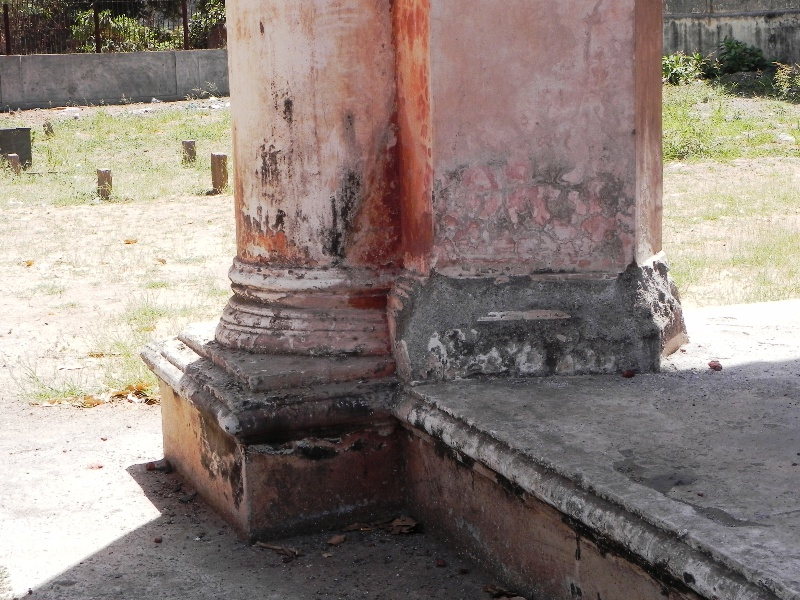Spalling: (386, 271, 683, 355)
